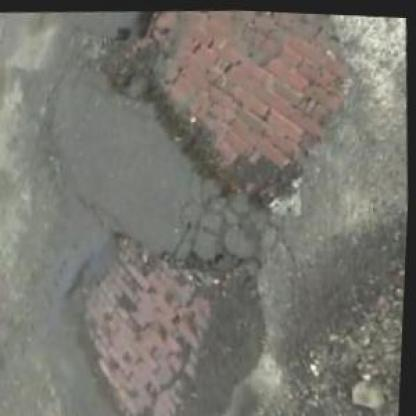pothole: (62, 215, 278, 415)
